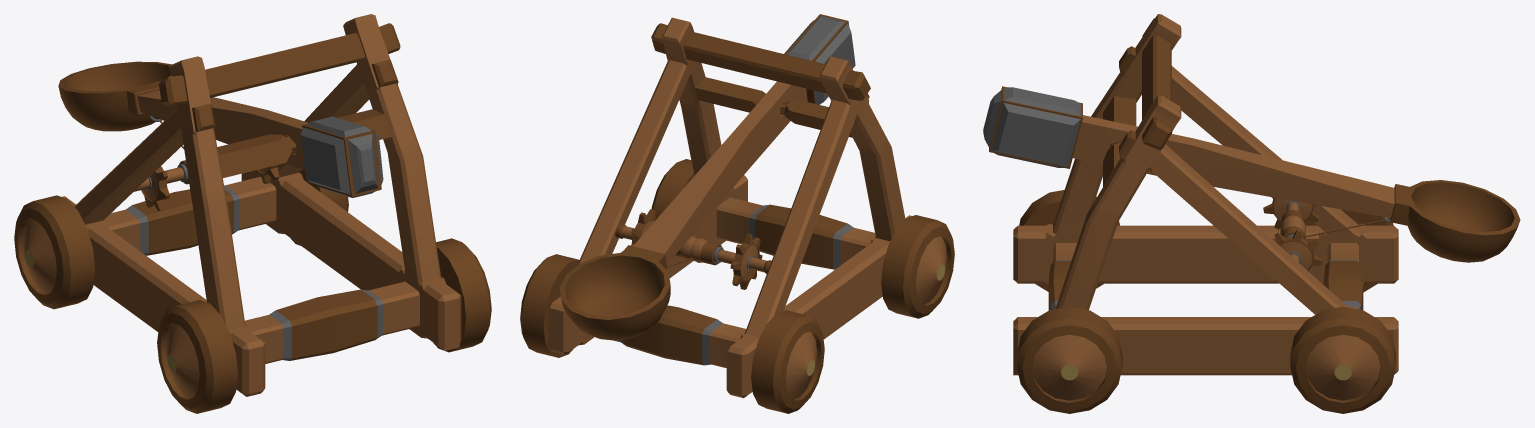
Rendered from Catapult.fbx.
The picture shows the model from 3 angles, left to right: view 1: azimuth 30°, elevation 25°; view 2: azimuth 150°, elevation 25°; view 3: azimuth 270°, elevation 25°; orthographic projection. The views are drawn at different scales.
Visible parts, largest first — view 1: Cube.029, Sphere.001, Cylinder.004, Cylinder.003, Cylinder.005; view 2: Cube.029, Sphere.001, Cylinder.003, Cylinder.004, Cylinder.005; view 3: Cube.029, Sphere.001, Cylinder.004, Cylinder.003, Cylinder.005.
Boxes of the visible parts, x1,y1,x2,y2 form: Cube.029: [62, 14, 461, 396]; Sphere.001: [58, 61, 383, 197]; Cylinder.004: [157, 238, 491, 413]; Cylinder.003: [14, 169, 348, 309]; Cylinder.005: [134, 160, 279, 211]; Cube.029: [548, 17, 912, 398]; Sphere.001: [559, 14, 855, 340]; Cylinder.003: [520, 254, 824, 413]; Cylinder.004: [651, 159, 954, 318]; Cylinder.005: [615, 209, 771, 289]; Cube.029: [1013, 14, 1398, 375]; Sphere.001: [983, 86, 1520, 262]; Cylinder.004: [1016, 190, 1122, 413]; Cylinder.003: [1290, 209, 1395, 413]; Cylinder.005: [1263, 197, 1322, 271].
Size of the model in its own units: 595 by 356 by 373.
